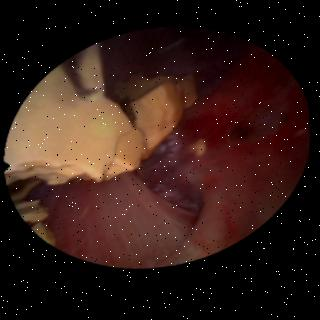stone: (7, 43, 198, 186), (12, 182, 57, 244), (191, 139, 206, 157)
tissue: (38, 31, 303, 264)
